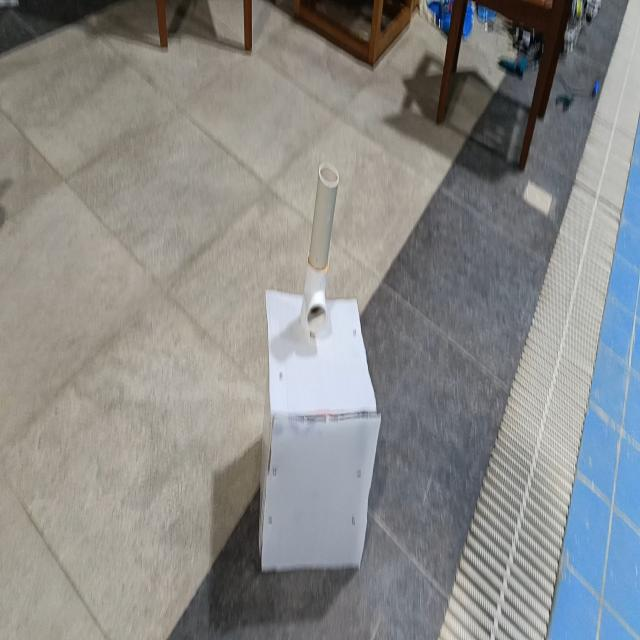Cube: (258, 285, 383, 577)
